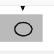no answer: (12, 21, 34, 38)
